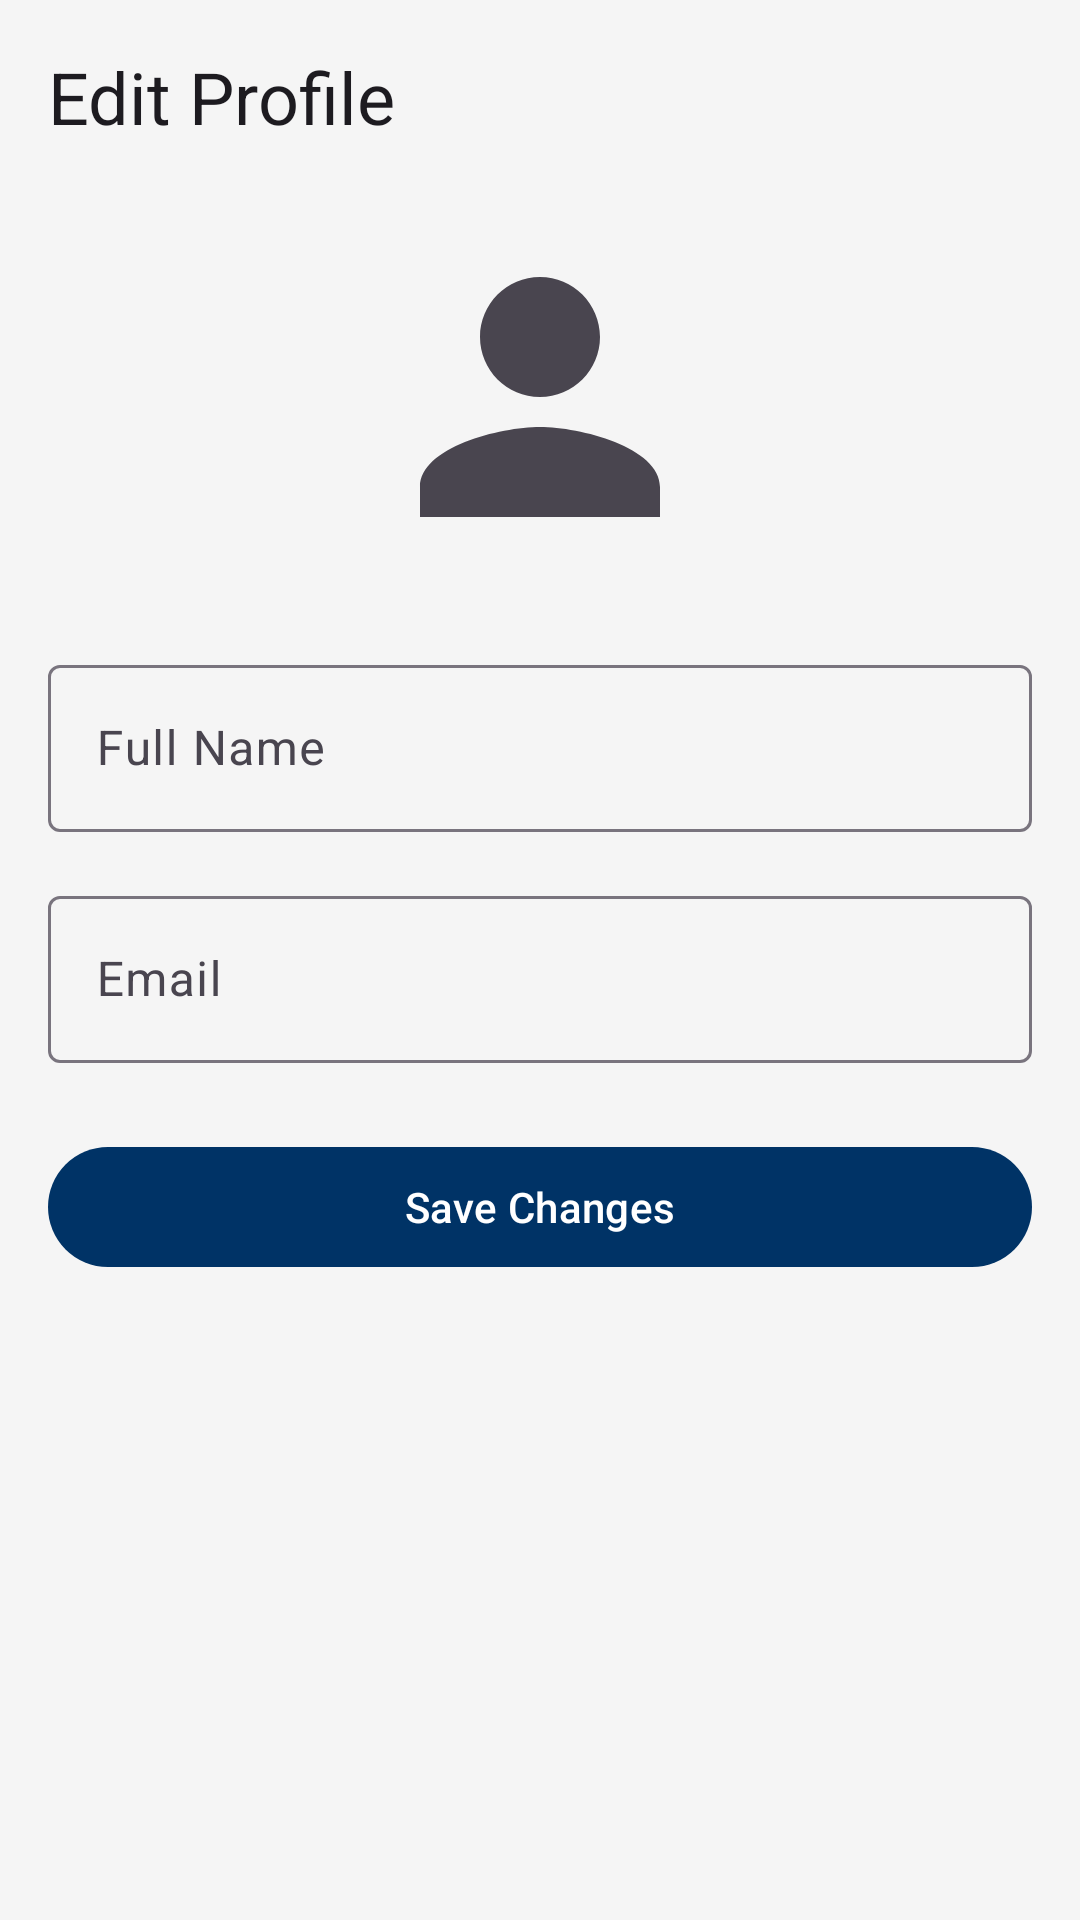

Named icons in this screenshot (1080w x 1920h) and their bounding boxes, [x1,y1,x2,y2]:
person: [420,277,660,517]
